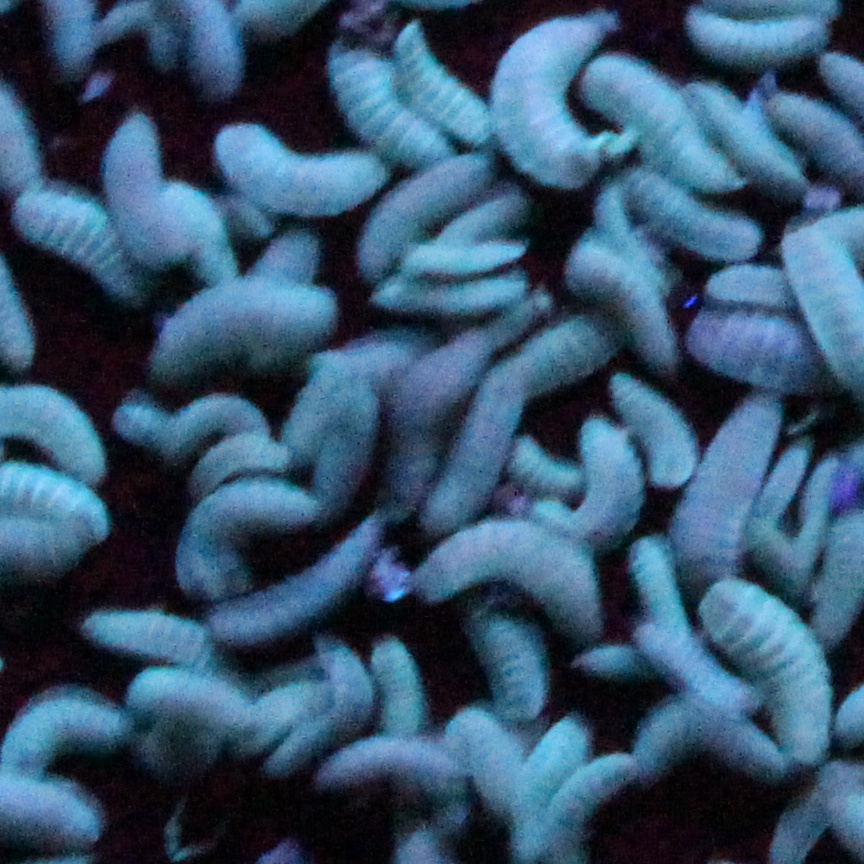larve: (426, 342, 551, 525), (704, 603, 833, 746), (601, 57, 747, 182), (408, 532, 597, 625), (676, 400, 772, 571), (497, 13, 588, 188), (379, 342, 462, 510), (145, 299, 317, 378), (351, 164, 476, 271), (333, 64, 454, 167), (230, 131, 360, 217), (576, 246, 676, 357), (290, 385, 365, 525), (190, 482, 297, 578), (682, 2, 827, 64), (322, 739, 490, 792), (90, 607, 212, 678), (229, 685, 319, 775), (5, 197, 116, 269), (476, 632, 544, 742), (4, 710, 112, 778), (634, 391, 698, 482), (124, 121, 167, 251), (369, 642, 429, 732), (319, 657, 369, 757)
